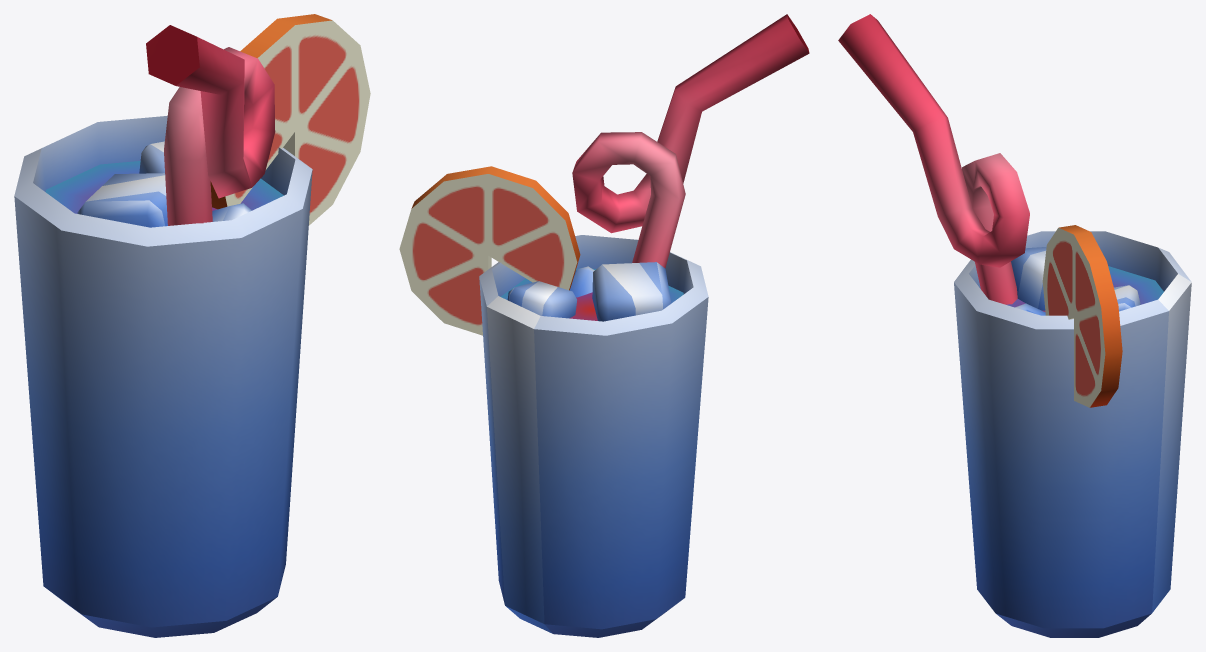
Rendered from m_Cocktail19.fbx.
The picture shows the model from 3 angles, left to right: view 1: azimuth 30°, elevation 25°; view 2: azimuth 150°, elevation 25°; view 3: azimuth 270°, elevation 25°; orthographic projection. The views are drawn at different scales.
Parts seen in each view (by area): view 1: m_Cocktail19; view 2: m_Cocktail19; view 3: m_Cocktail19.
Boxes of the visible parts, <box> form: m_Cocktail19: <box>14,14,370,637</box>; m_Cocktail19: <box>399,14,809,637</box>; m_Cocktail19: <box>838,14,1191,637</box>.
Size of the model in its own units: 18.46 by 32.78 by 19.29.
